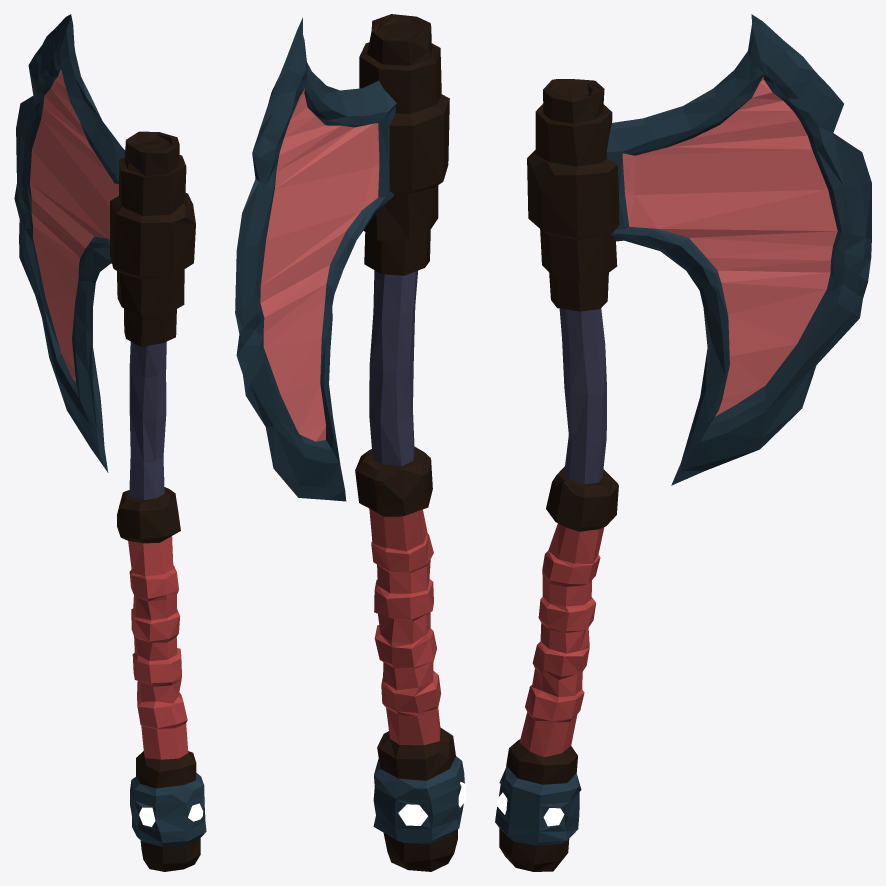
Rendered from SFFA_Weapon_Axe_Gold_002.fbx.
3 renders of one model, left to right at view 1: azimuth 30°, elevation 25°; view 2: azimuth 150°, elevation 25°; view 3: azimuth 270°, elevation 25°, orthographic. The views are drawn at different scales.
Parts seen in each view (by area): view 1: SFFA_Weapon_Axe_Gold_002; view 2: SFFA_Weapon_Axe_Gold_002; view 3: SFFA_Weapon_Axe_Gold_002.
Part boxes in pixels (x1,y1,x2,y2): SFFA_Weapon_Axe_Gold_002: [14, 14, 206, 871]; SFFA_Weapon_Axe_Gold_002: [235, 14, 466, 871]; SFFA_Weapon_Axe_Gold_002: [495, 14, 871, 871].
Size of the model in its own units: 6.21 by 61.09 by 24.57.
